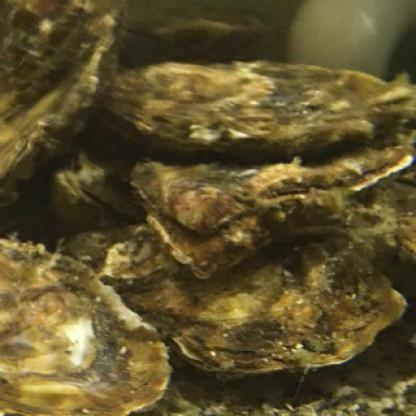Oyster- Indeterminate: (142, 145, 416, 277)
Oyster-Closed: (57, 231, 403, 369), (97, 63, 416, 163), (0, 247, 168, 416)
